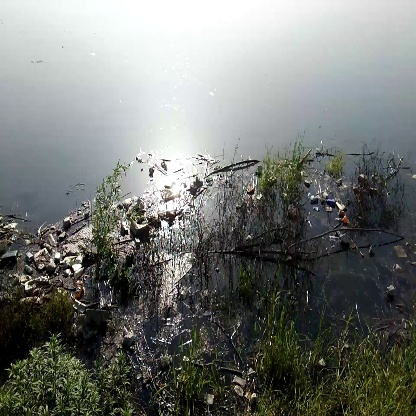branch: (288, 226, 407, 254), (202, 159, 265, 179)
